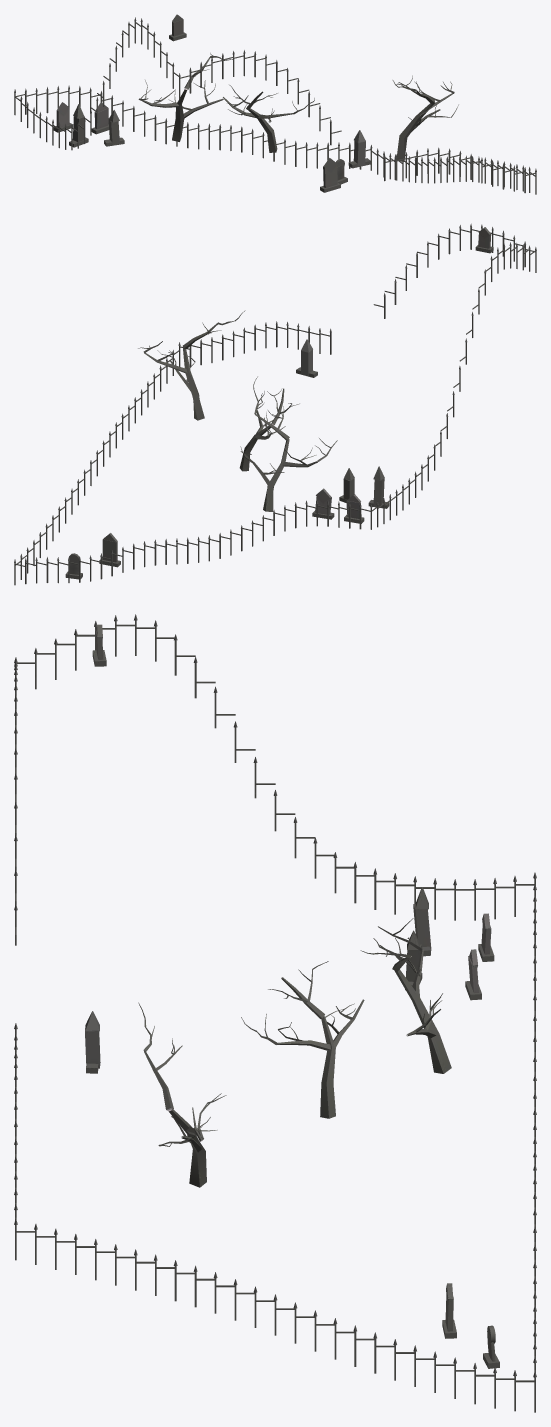
The model's file is graveyard.glb.
3 views of the same model, one above another, from view 1: azimuth 30°, elevation 25°; view 2: azimuth 150°, elevation 25°; view 3: azimuth 270°, elevation 25° (orthographic). The views are drawn at different scales.
Parts seen in each view (by area): view 1: main; view 2: main; view 3: main.
Boxes of the visible parts, x1=… form: main: x1=14, y1=14, x2=536, y2=194; main: x1=14, y1=223, x2=536, y2=585; main: x1=14, y1=614, x2=536, y2=1412.
Size of the model in its own units: 30.18 by 27.17 by 24.18.
1 material, 1 textured.
